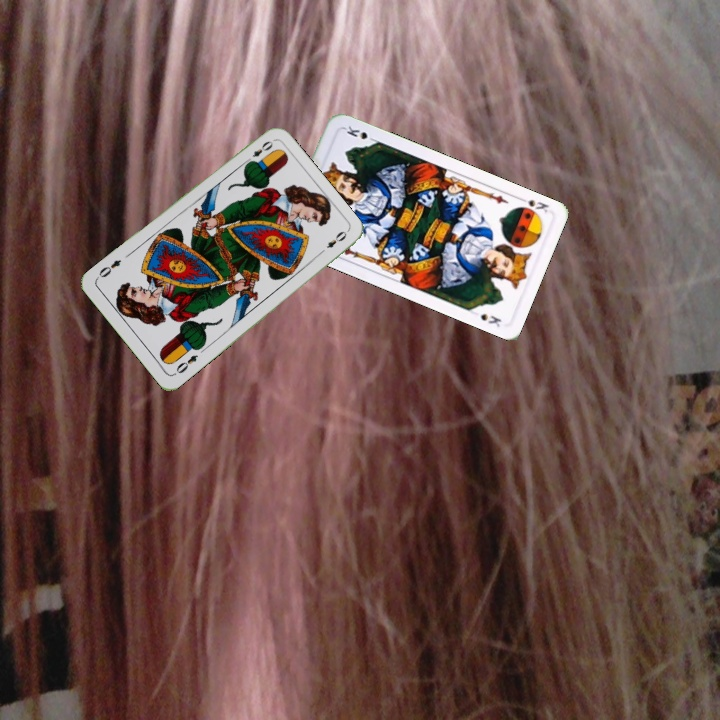EO: (241, 136, 276, 166), (172, 350, 201, 376)
SK: (514, 195, 551, 215)
